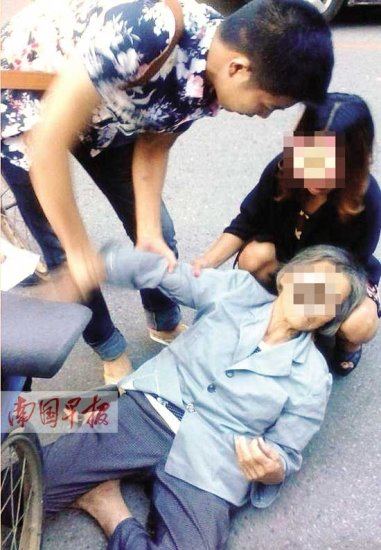fall: (21, 218, 359, 550)
